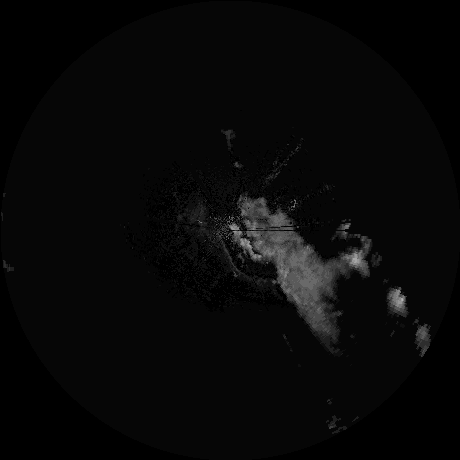frontgust: (217, 231, 245, 280)
